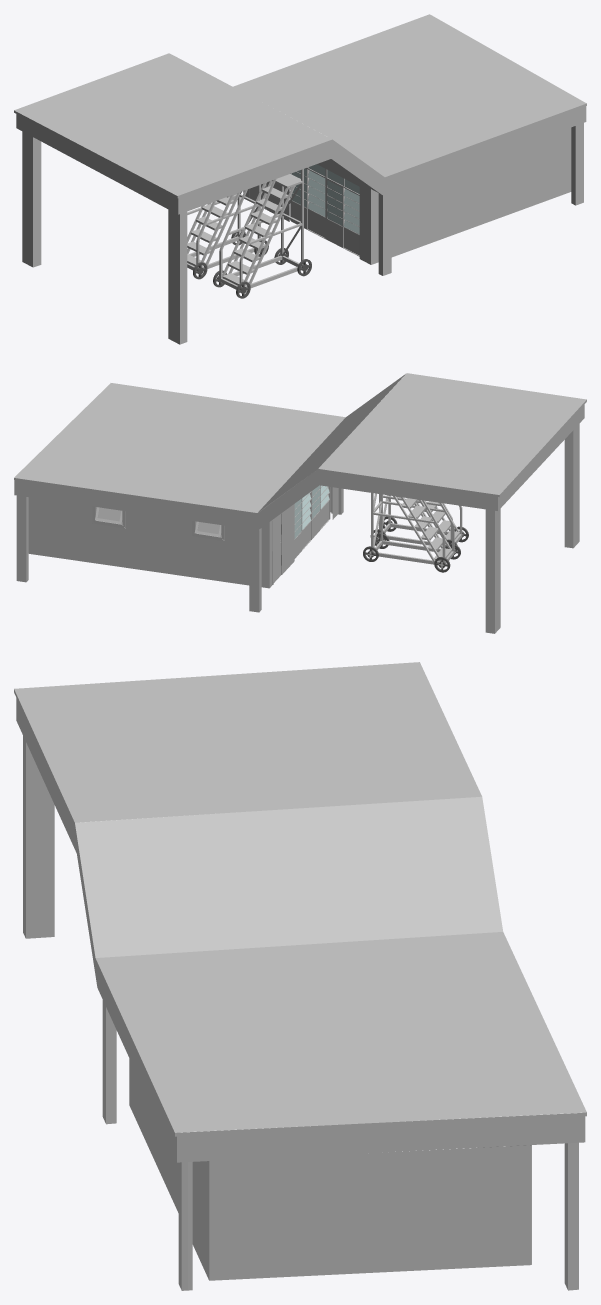
File: Patio1ObjetosGol.gltf
The picture shows the model from 3 angles, top to bottom: view 1: azimuth 30°, elevation 25°; view 2: azimuth 150°, elevation 25°; view 3: azimuth 270°, elevation 25°; orthographic projection. The views are drawn at different scales.
Parts seen in each view (by area): view 1: node7, node5, node3, node6, node13, node23, node9, node14, node10, node15; view 2: node7, node5, node3, node6, node9, node14, node10, node13, node23, node15, node20, node24 (+1 smaller); view 3: node7, node5, node3, node6.
Part boxes in pixels (x1,y1,x2,y2): node7: [14, 14, 586, 195]; node5: [371, 127, 571, 264]; node3: [14, 103, 586, 214]; node6: [22, 123, 583, 344]; node13: [219, 169, 303, 289]; node23: [291, 164, 359, 234]; node9: [187, 184, 260, 270]; node14: [290, 167, 359, 256]; node10: [243, 163, 370, 264]; node15: [193, 230, 311, 298]; node7: [14, 373, 586, 512]; node5: [28, 497, 269, 588]; node3: [14, 400, 586, 530]; node6: [16, 424, 579, 633]; node9: [371, 493, 454, 564]; node14: [92, 485, 330, 558]; node10: [269, 487, 338, 587]; node13: [379, 494, 462, 547]; node23: [294, 485, 329, 538]; node15: [363, 516, 468, 572]; node20: [273, 514, 281, 582]; node24: [98, 507, 219, 534]; node7: [14, 662, 586, 1132]; node5: [129, 1058, 531, 1280]; node3: [14, 689, 585, 1162]; node6: [23, 736, 578, 1290].
Size of the model in its own units: 19.53 by 6.39 by 12.41.
